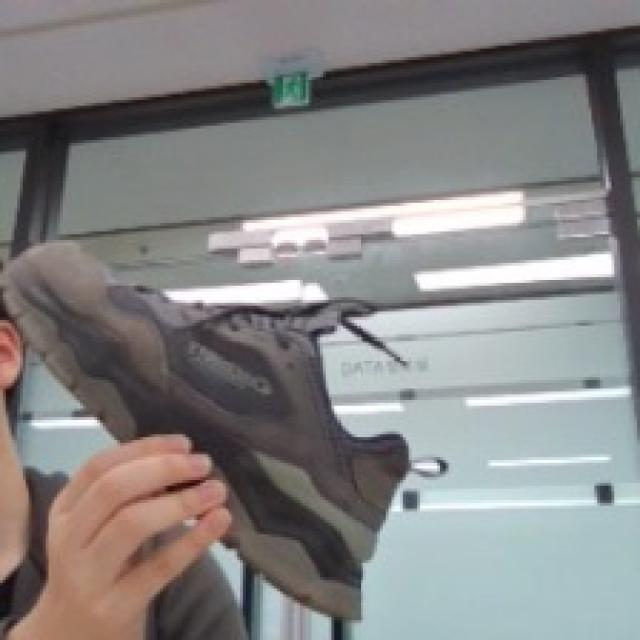shoe: (0, 153, 445, 628)
